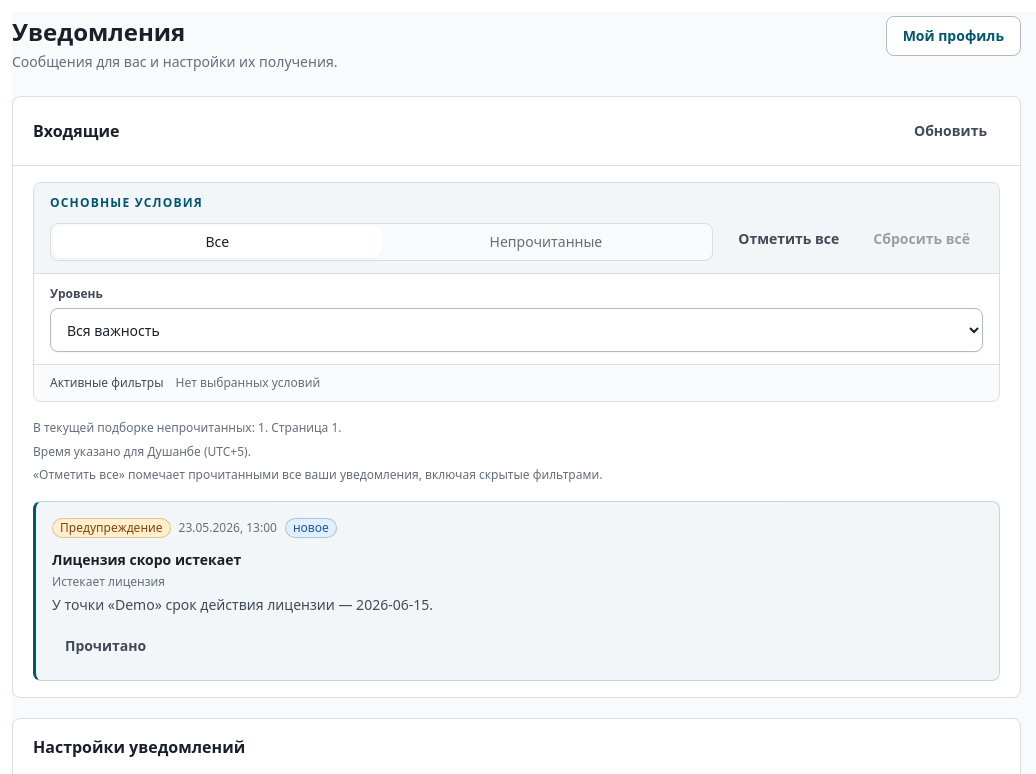
Test: NotificationsPage › marks all notifications and refreshes the unread count
expect the text "Лицензия скоро истекает" is shown: met, box [52,550,241,568]
Click the button "Отметить все". click: (789, 239)
box: [725,221,852,257]
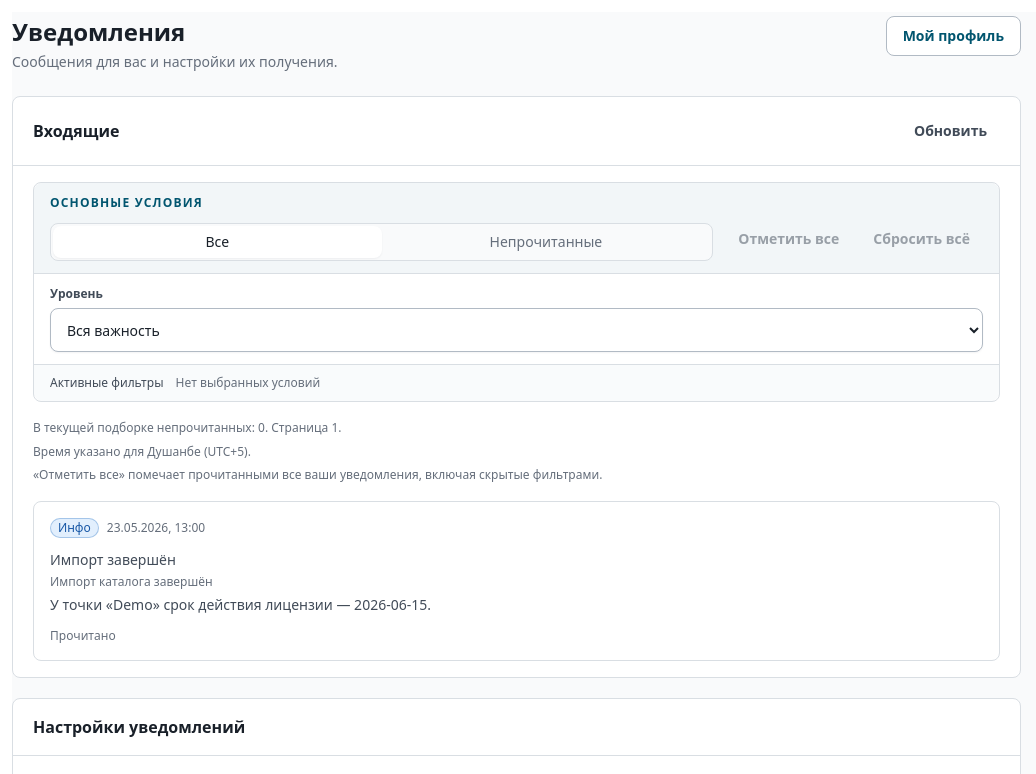
expect the text "Импорт завершён" is shown: met, box [50,550,176,568]
expect the button "Отметить все" is disabled: met, box [725,221,852,257]
